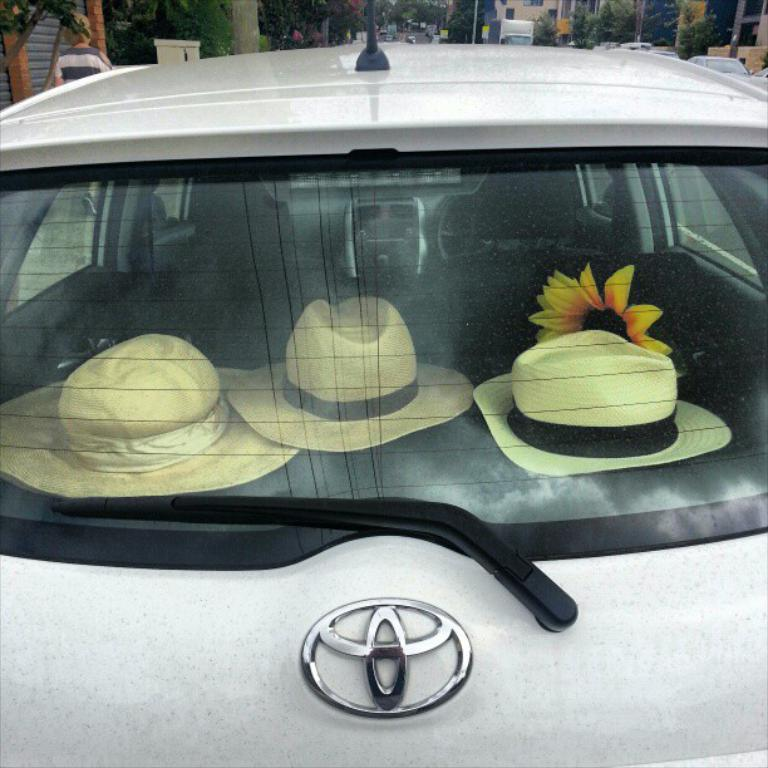Car: (0, 70, 744, 702)
